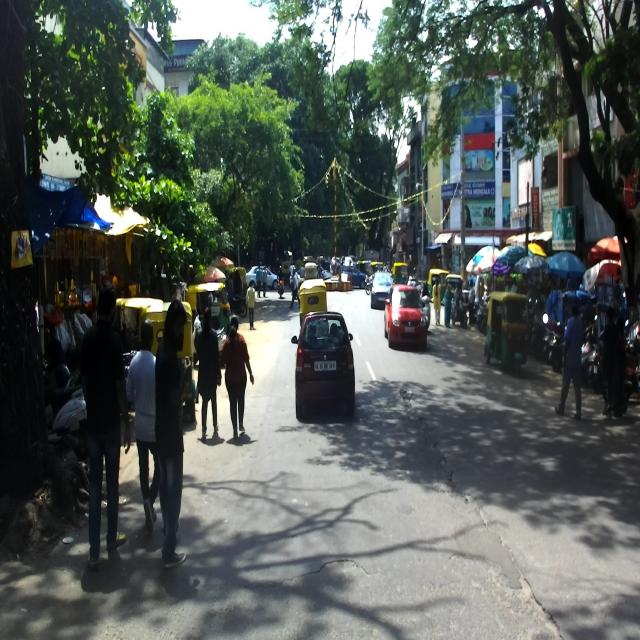Car_Maruti-Suzuki: (291, 310, 356, 418)
scooter: (40, 354, 93, 460)
